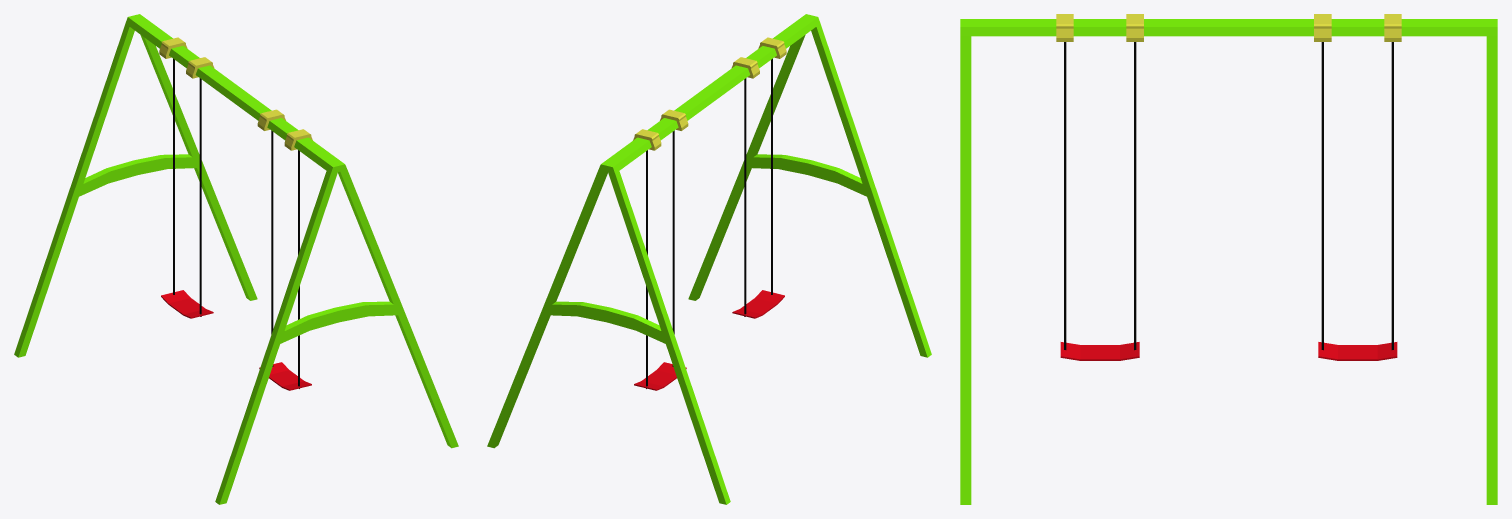
The model's file is Columpio.fbx.
The picture shows the model from 3 angles, left to right: view 1: azimuth 30°, elevation 25°; view 2: azimuth 150°, elevation 25°; view 3: azimuth 270°, elevation 25°; orthographic projection. The views are drawn at different scales.
Parts seen in each view (by area): view 1: Columpio; view 2: Columpio; view 3: Columpio.
Boxes of the visible parts, x1,y1,x2,y2 form: Columpio: (14, 14, 458, 504); Columpio: (487, 14, 931, 504); Columpio: (960, 14, 1497, 504).
Bounding box in the file's own units: 206 × 258 × 306.
